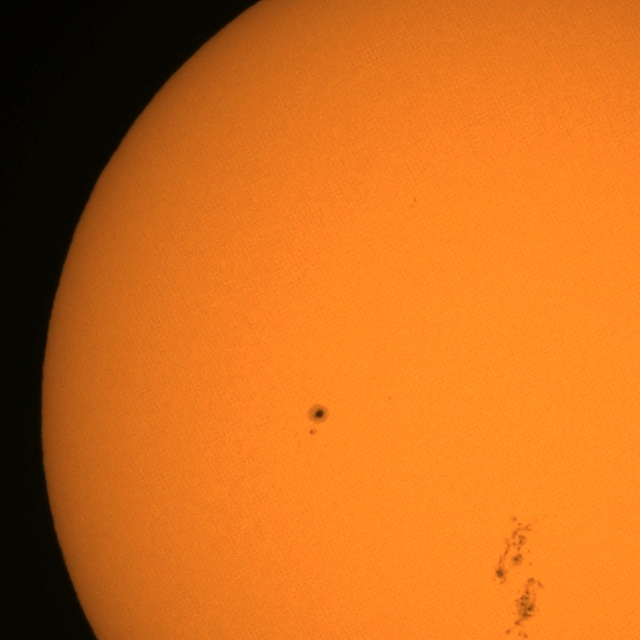sunspot: (494, 544, 541, 594), (501, 514, 535, 570), (510, 575, 540, 631), (306, 404, 330, 436), (410, 196, 418, 208), (387, 395, 392, 401)
